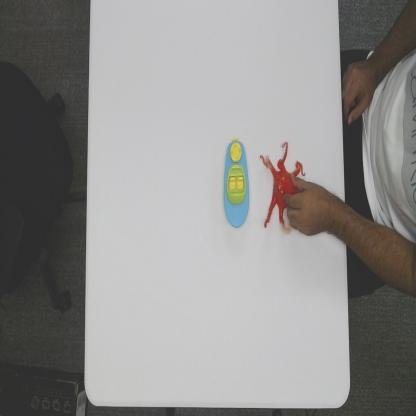Hand: (282, 169, 344, 238)
Octopus: (259, 139, 306, 236), (223, 134, 250, 229)
